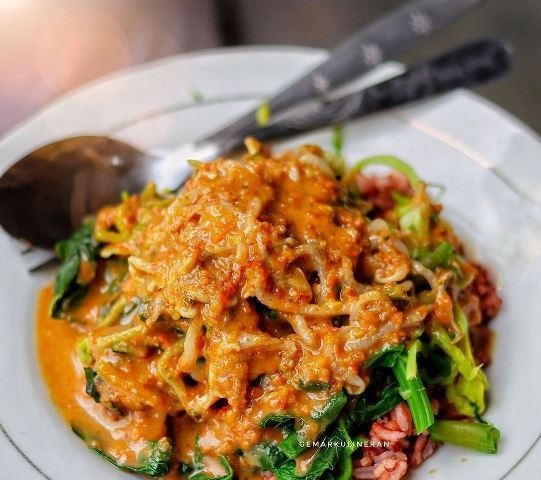pecel: (62, 129, 496, 480)
